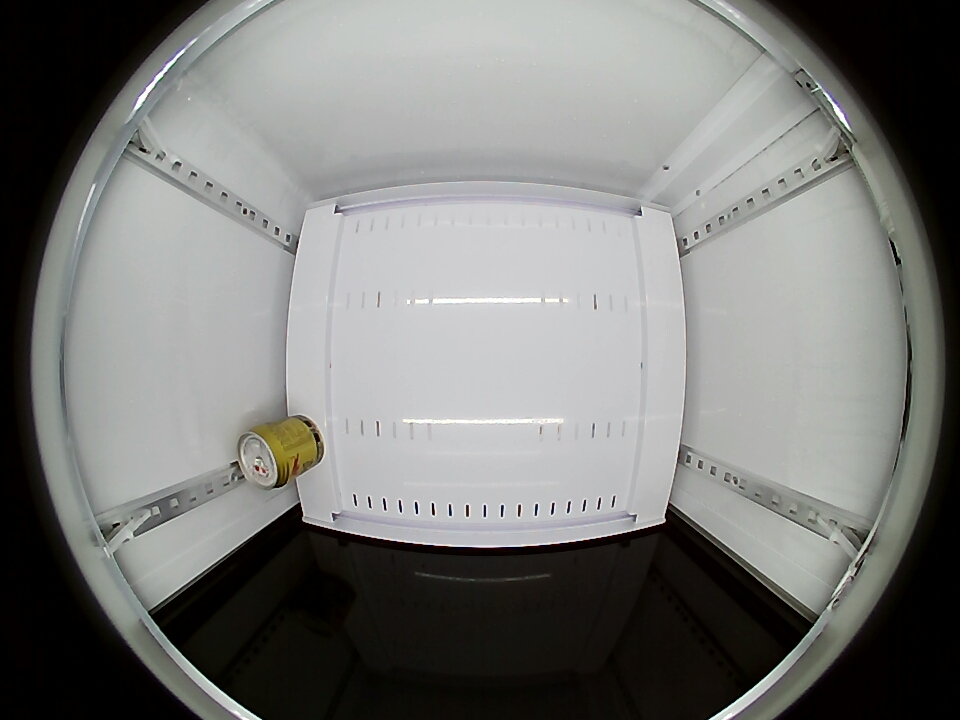hongniu2: (236, 424, 295, 490)
